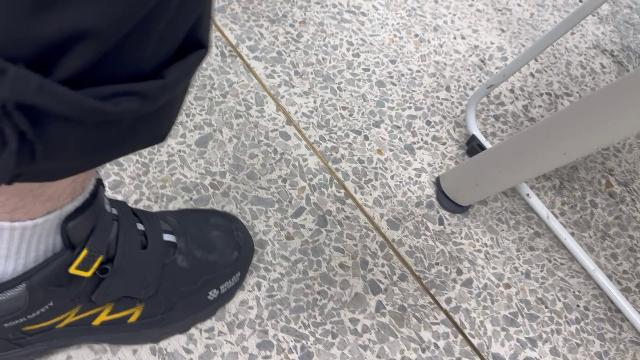shoe_worn: (0, 190, 252, 359)
